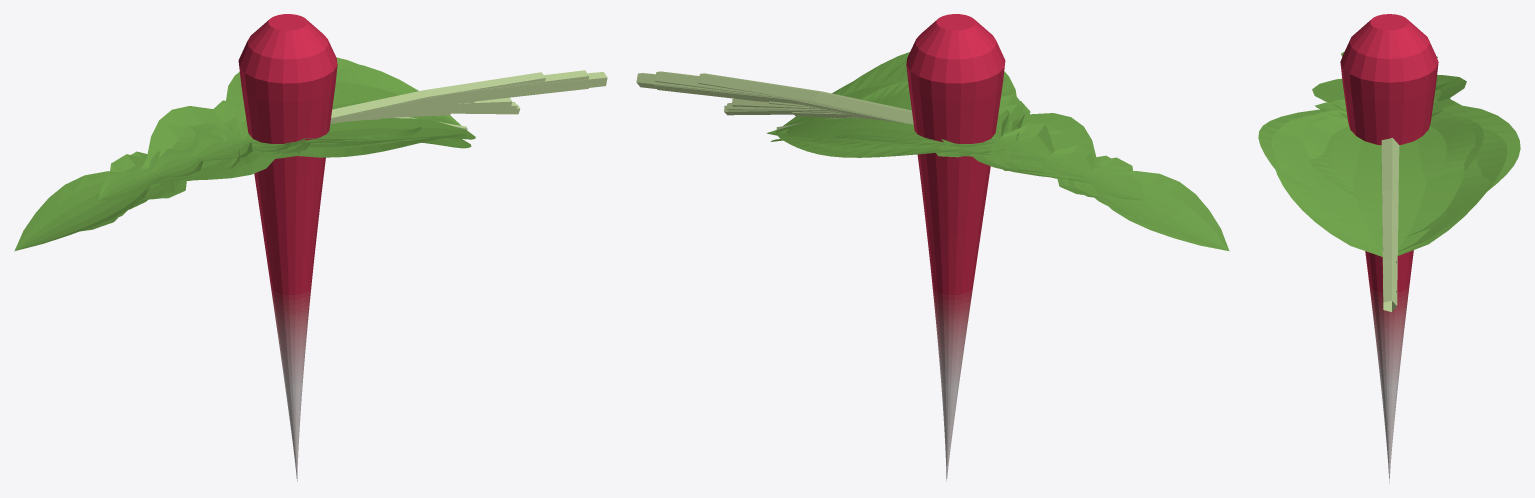
File: radish_harvest_v13.articulated.glb
The picture shows the model from 3 angles, left to right: view 1: azimuth 30°, elevation 25°; view 2: azimuth 150°, elevation 25°; view 3: azimuth 270°, elevation 25°; orthographic projection.
Visible parts, largest first — view 1: root, leaf04_link2, leaf03_link2, leaf00_link2, leaf02_link0, leaf00_link0, leaf02_link2, leaf04_link0, leaf02_link1; view 2: root, leaf04_link2, leaf00_link2, leaf03_link2, leaf00_link0, leaf02_link2, leaf02_link0, leaf04_link0, leaf05_link2, leaf03_link0; view 3: root, leaf03_link2, leaf04_link2, leaf00_link2, leaf02_link2, leaf00_link0, leaf05_link2, leaf06_link2, leaf04_link0, leaf01_link2, leaf02_link0.
Part boxes in pixels (bbox=[...]): root: bbox=[238, 14, 337, 481]; leaf04_link2: bbox=[14, 72, 465, 251]; leaf03_link2: bbox=[110, 62, 475, 199]; leaf00_link2: bbox=[98, 83, 421, 200]; leaf02_link0: bbox=[330, 72, 607, 123]; leaf00_link0: bbox=[331, 72, 545, 118]; leaf02_link2: bbox=[81, 57, 471, 231]; leaf04_link0: bbox=[331, 70, 588, 118]; leaf02_link1: bbox=[383, 104, 520, 118]; root: bbox=[906, 14, 1005, 481]; leaf04_link2: bbox=[778, 52, 1229, 251]; leaf00_link2: bbox=[835, 81, 1145, 200]; leaf03_link2: bbox=[766, 59, 1132, 199]; leaf00_link0: bbox=[698, 73, 913, 124]; leaf02_link2: bbox=[771, 94, 1110, 194]; leaf02_link0: bbox=[636, 73, 906, 123]; leaf04_link0: bbox=[654, 71, 910, 124]; leaf05_link2: bbox=[831, 104, 1063, 181]; leaf03_link0: bbox=[654, 84, 791, 103]; root: bbox=[1340, 14, 1438, 483]; leaf03_link2: bbox=[1273, 80, 1491, 253]; leaf04_link2: bbox=[1258, 51, 1520, 237]; leaf00_link2: bbox=[1309, 106, 1475, 199]; leaf02_link2: bbox=[1272, 92, 1507, 256]; leaf00_link0: bbox=[1381, 137, 1399, 262]; leaf05_link2: bbox=[1313, 89, 1483, 171]; leaf06_link2: bbox=[1303, 115, 1343, 158]; leaf04_link0: bbox=[1381, 149, 1399, 292]; leaf01_link2: bbox=[1301, 108, 1430, 139]; leaf02_link0: bbox=[1381, 153, 1399, 311].
Size of the model in its own units: 0.2343 by 0.1759 by 0.0914.
1 material, 1 textured.
